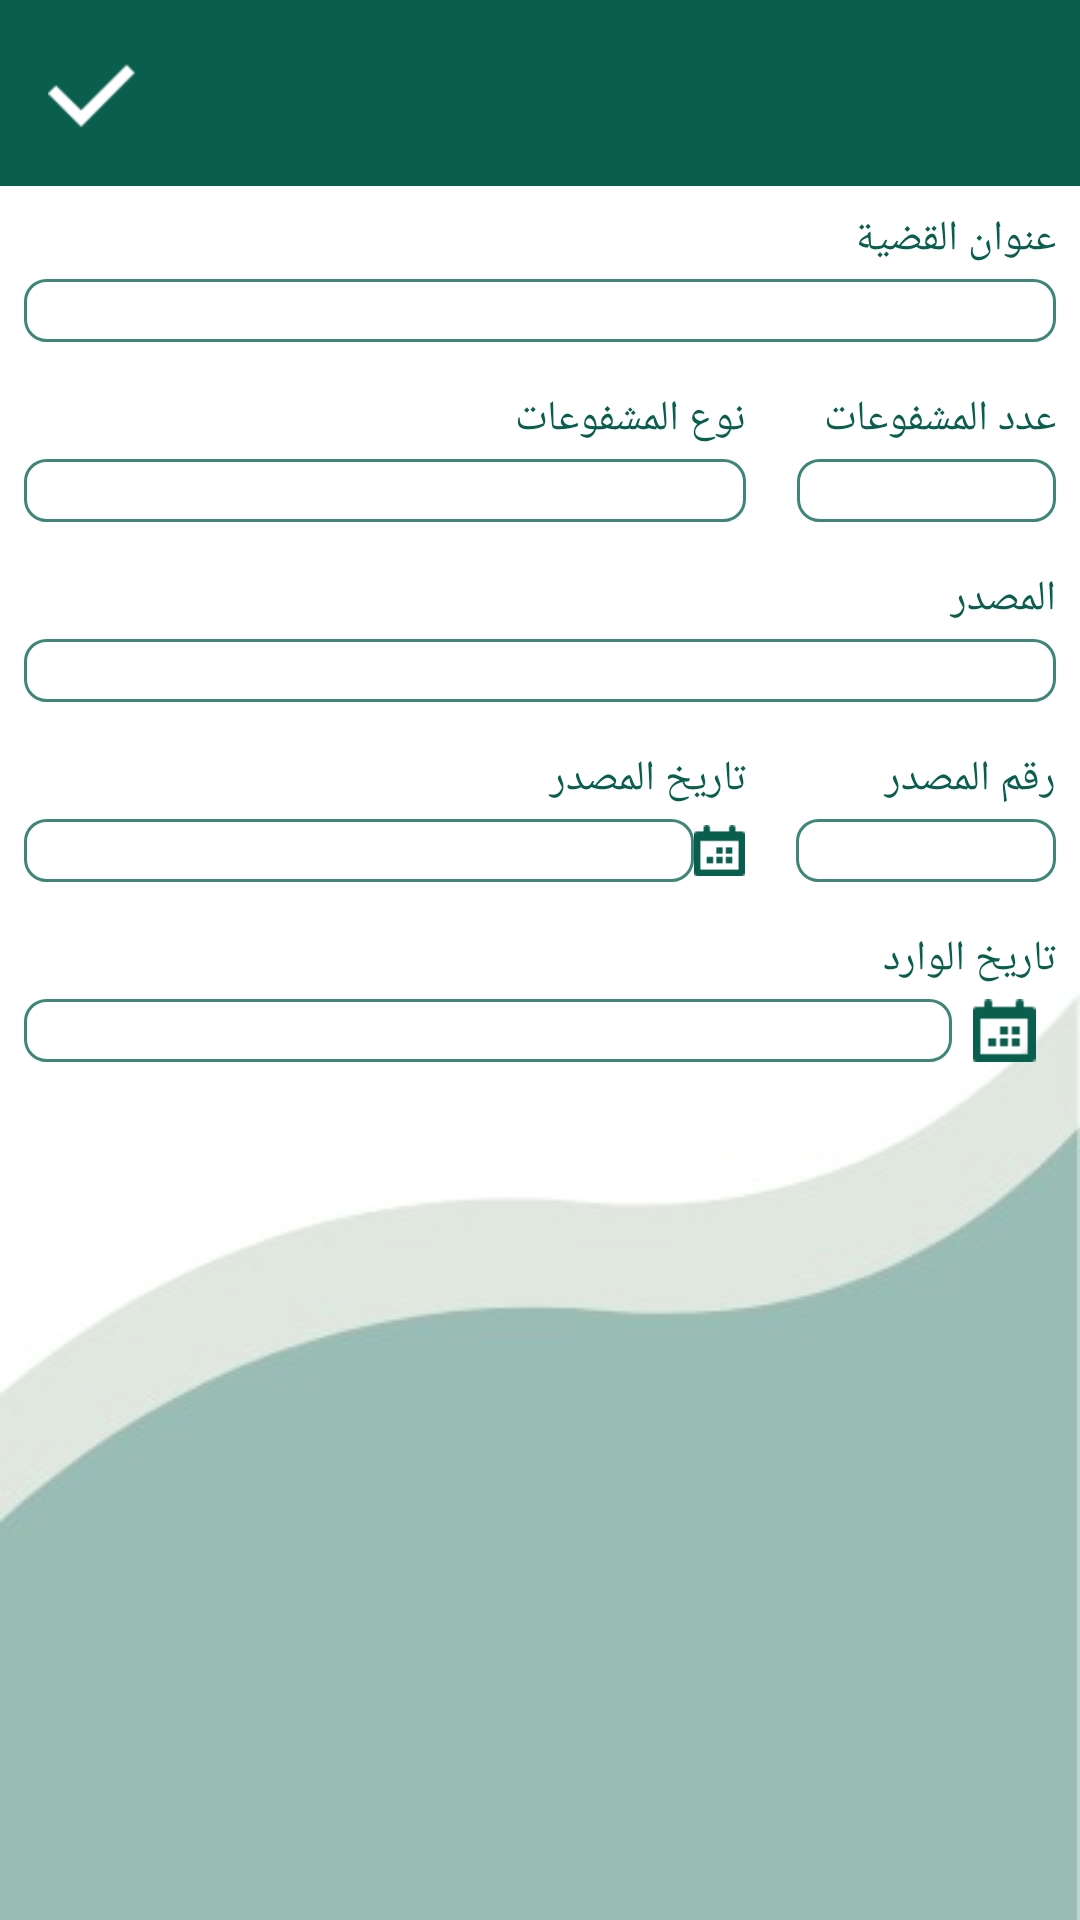

Icons on this 1080*1920 Android screen, each with the point to tap as (x,y):
right: (91,95)
